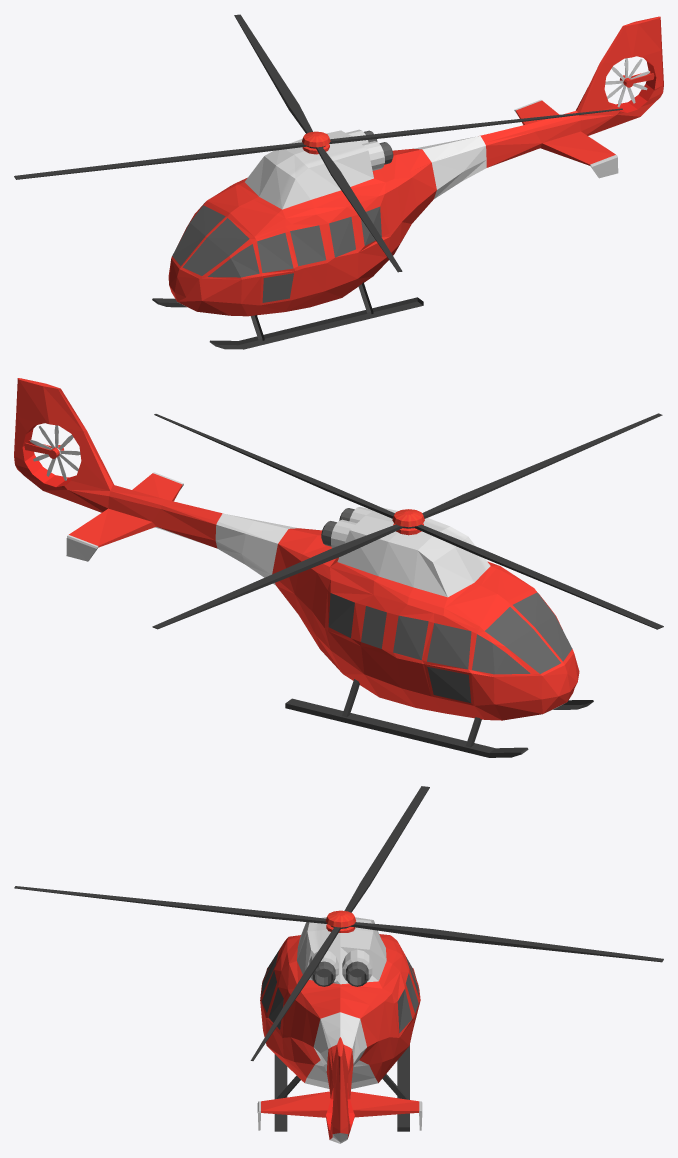
Rendered from Lowpoly_Helicopter.obj.
3 views of the same model, one above another, from view 1: azimuth 30°, elevation 25°; view 2: azimuth 150°, elevation 25°; view 3: azimuth 270°, elevation 25° (orthographic). The views are drawn at different scales.
Parts seen in each view (by area): view 1: Copter, Propeller_1, Legs, Propeller, Cylinder; view 2: Copter, Propeller_1, Legs, Propeller, Cylinder; view 3: Copter, Propeller_1, Legs.
Part boxes in pixels (left/top/right/bottom): Copter: left=168, top=16, right=663, bottom=316; Propeller_1: left=14, top=14, right=622, bottom=272; Legs: left=152, top=282, right=423, bottom=349; Propeller: left=605, top=58, right=649, bottom=107; Cylinder: left=609, top=58, right=656, bottom=112; Copter: left=14, top=378, right=579, bottom=720; Propeller_1: left=152, top=413, right=663, bottom=629; Legs: left=285, top=679, right=593, bottom=757; Propeller: left=30, top=425, right=80, bottom=480; Cylinder: left=22, top=425, right=75, bottom=487; Copter: left=257, top=917, right=422, bottom=1143; Propeller_1: left=14, top=786, right=663, bottom=1060; Legs: left=274, top=1045, right=409, bottom=1131.
Bounding box in the file's own units: 4824 × 1521 × 4172.
